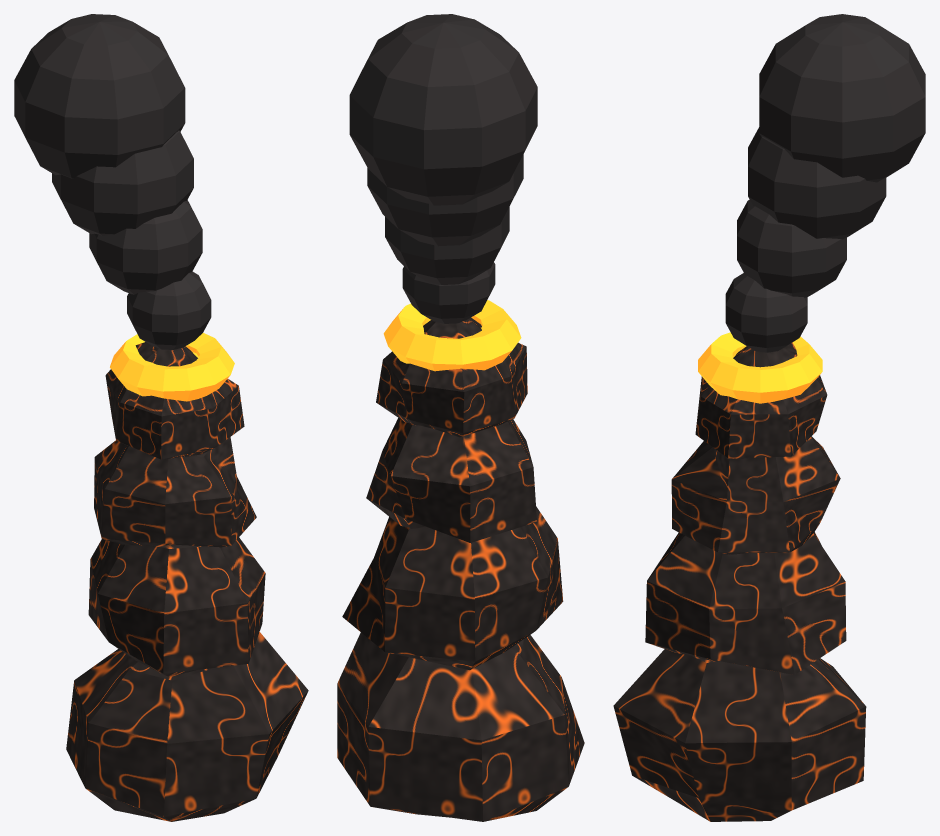
The model's file is BlackSmoker.glb.
The picture shows the model from 3 angles, left to right: view 1: azimuth 30°, elevation 25°; view 2: azimuth 150°, elevation 25°; view 3: azimuth 270°, elevation 25°; orthographic projection. The views are drawn at different scales.
Parts seen in each view (by area): view 1: BlackSmoker, BlackSmoker_Glow; view 2: BlackSmoker, BlackSmoker_Glow; view 3: BlackSmoker, BlackSmoker_Glow.
Boxes of the visible parts, box(x1,y1,x2,y2) form: BlackSmoker: box(14, 14, 308, 821); BlackSmoker_Glow: box(110, 333, 234, 401); BlackSmoker: box(337, 14, 584, 821); BlackSmoker_Glow: box(383, 300, 521, 371); BlackSmoker: box(613, 14, 925, 821); BlackSmoker_Glow: box(698, 332, 822, 403).
Size of the model in its own units: 1.92 by 6.61 by 2.47.
Materials: 2 (1 with a texture image).
